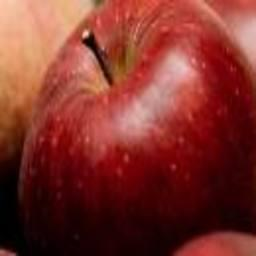apple: (21, 2, 255, 253)
